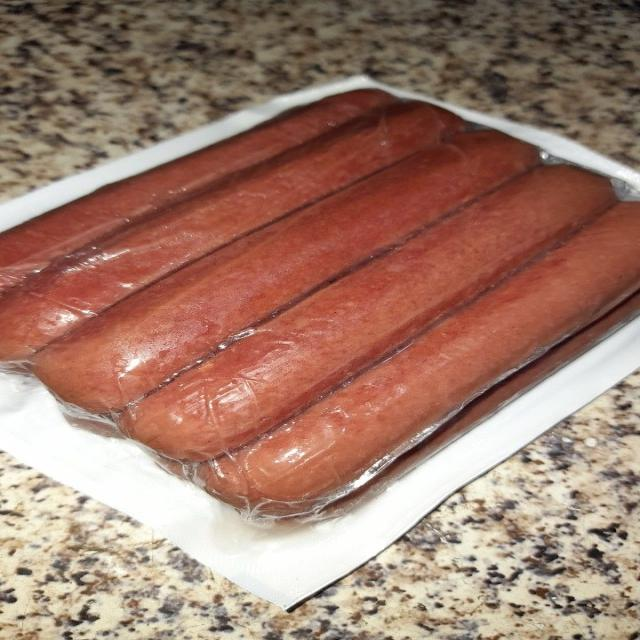sausage: (121, 166, 615, 460), (43, 131, 538, 410), (198, 203, 639, 515), (0, 102, 463, 359), (0, 90, 396, 292)
